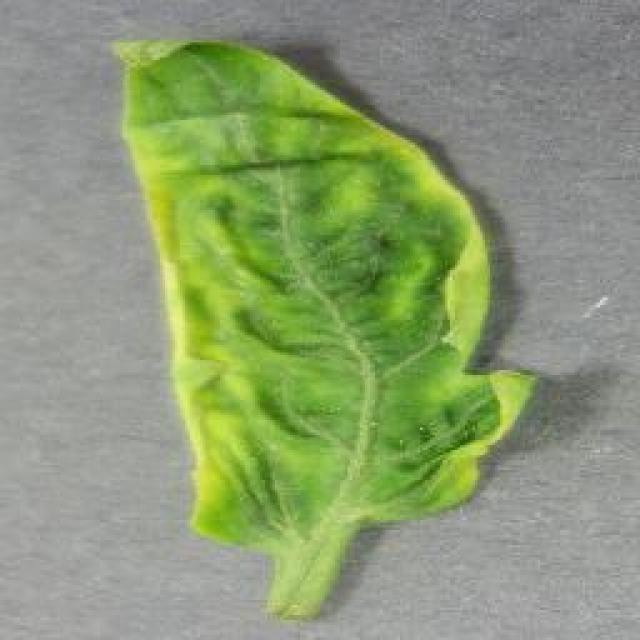Tomato yellow virus leaf: (106, 31, 536, 549)
